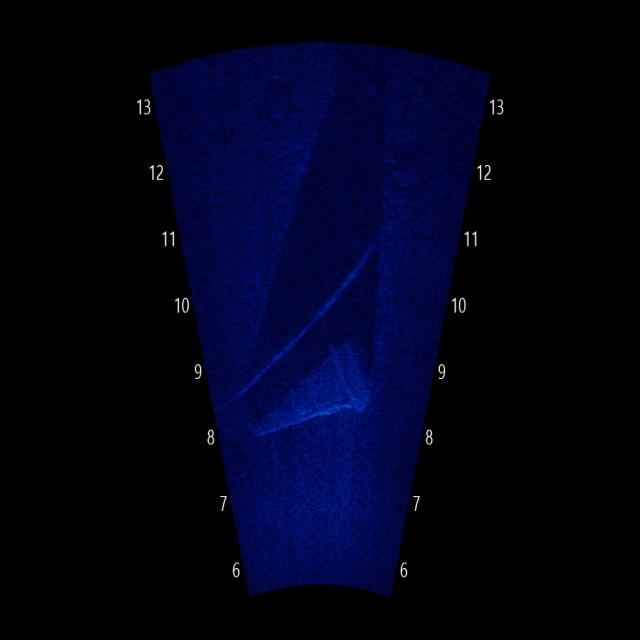circle: (254, 64, 306, 128), (381, 143, 429, 195)
triangle: (248, 324, 388, 445)
